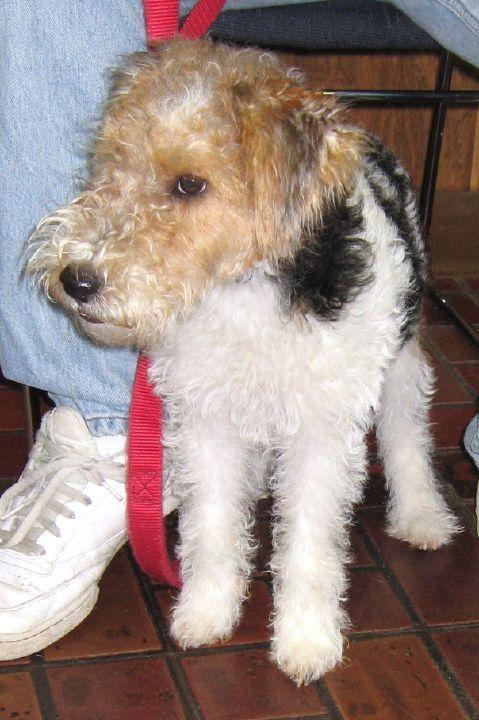wire-haired_fox_terrier: (21, 30, 460, 685)
